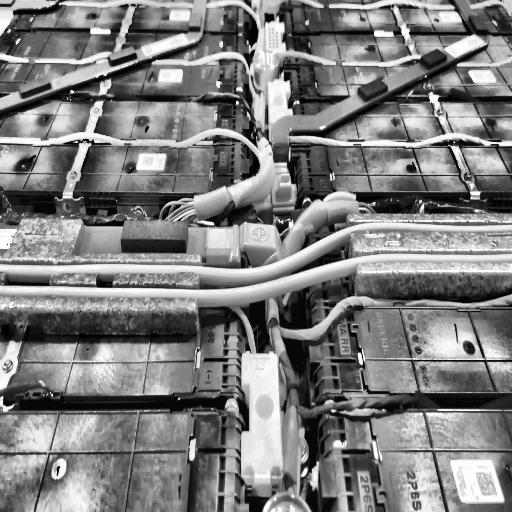busbar: (270, 0, 493, 159)
high_volt_cable: (0, 217, 512, 310), (0, 123, 278, 227), (0, 42, 266, 121), (57, 0, 279, 65), (271, 39, 512, 72), (284, 125, 512, 156), (277, 0, 511, 16)
